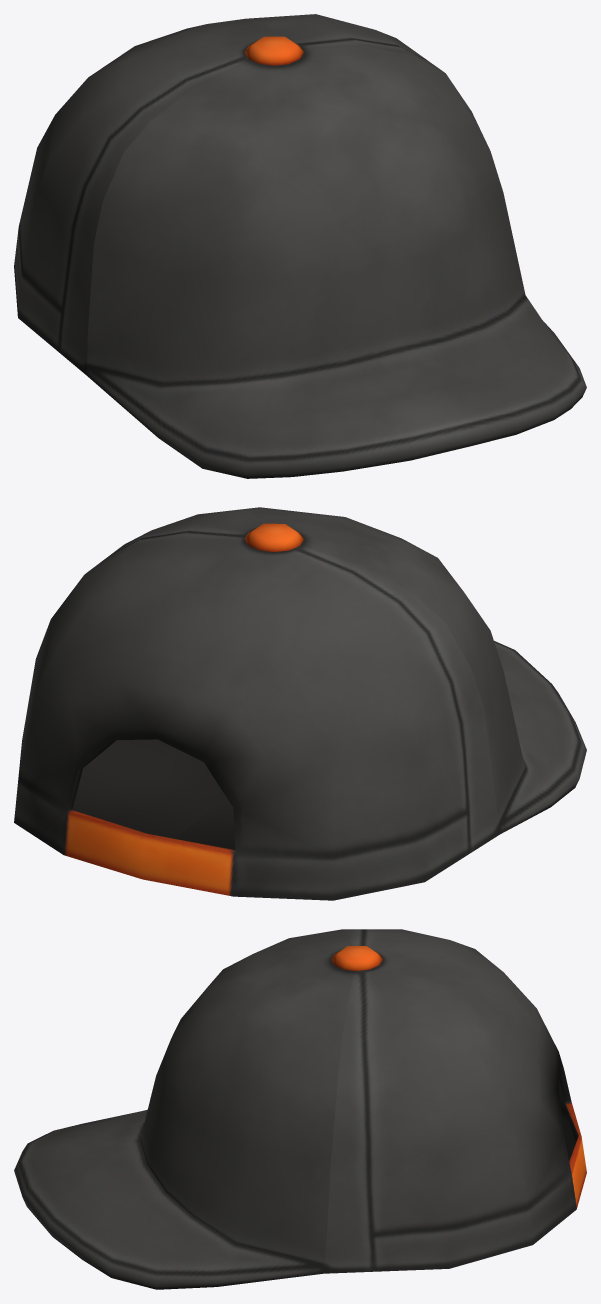
Rendered from pokemon_hat.glb.
3 renders of one model, top to bottom at view 1: azimuth 30°, elevation 25°; view 2: azimuth 150°, elevation 25°; view 3: azimuth 270°, elevation 25°, orthographic. The views are drawn at different scales.
Parts seen in each view (by area): view 1: Object_4; view 2: Object_4; view 3: Object_4.
Boxes of the visible parts, x1=… form: Object_4: x1=14, y1=14, x2=586, y2=478; Object_4: x1=14, y1=507, x2=586, y2=900; Object_4: x1=14, y1=929, x2=586, y2=1289.
Bounding box in the file's own units: 14.02 × 9.62 × 19.23.
1 material, 1 textured.
